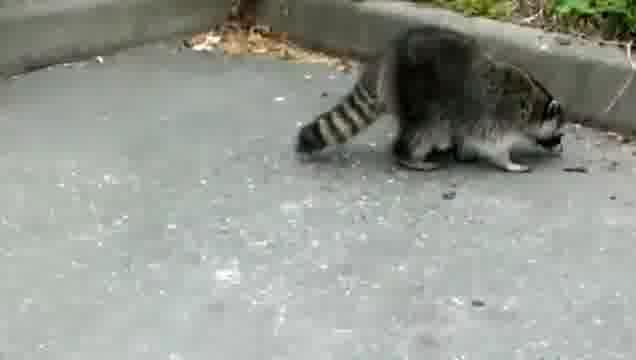raccoon: (294, 24, 566, 182)
